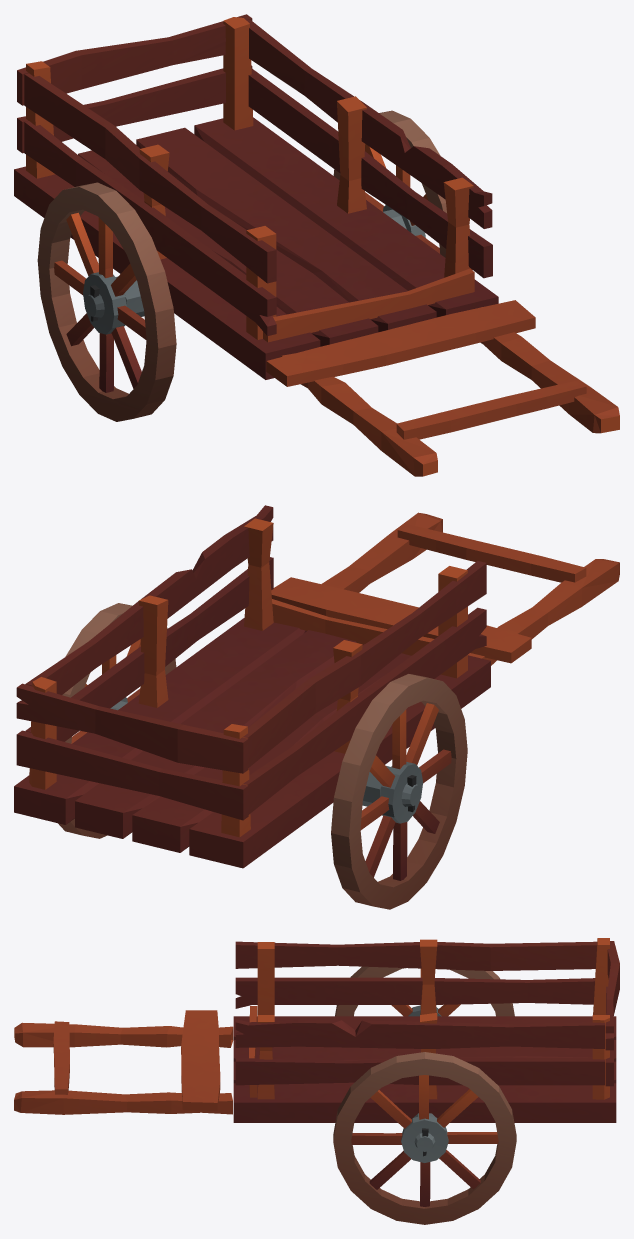
The model's file is M_cart.fbx.
3 views of the same model, one above another, from view 1: azimuth 30°, elevation 25°; view 2: azimuth 150°, elevation 25°; view 3: azimuth 270°, elevation 25° (orthographic). The views are drawn at different scales.
Visible parts, largest first — view 1: cart; view 2: cart; view 3: cart.
Boxes of the visible parts, left/top/right/bottom form: cart: left=14, top=14, right=619, bottom=476; cart: left=14, top=505, right=619, bottom=909; cart: left=14, top=938, right=619, bottom=1224.
Bounding box in the file's own units: 300 × 218 × 633.
